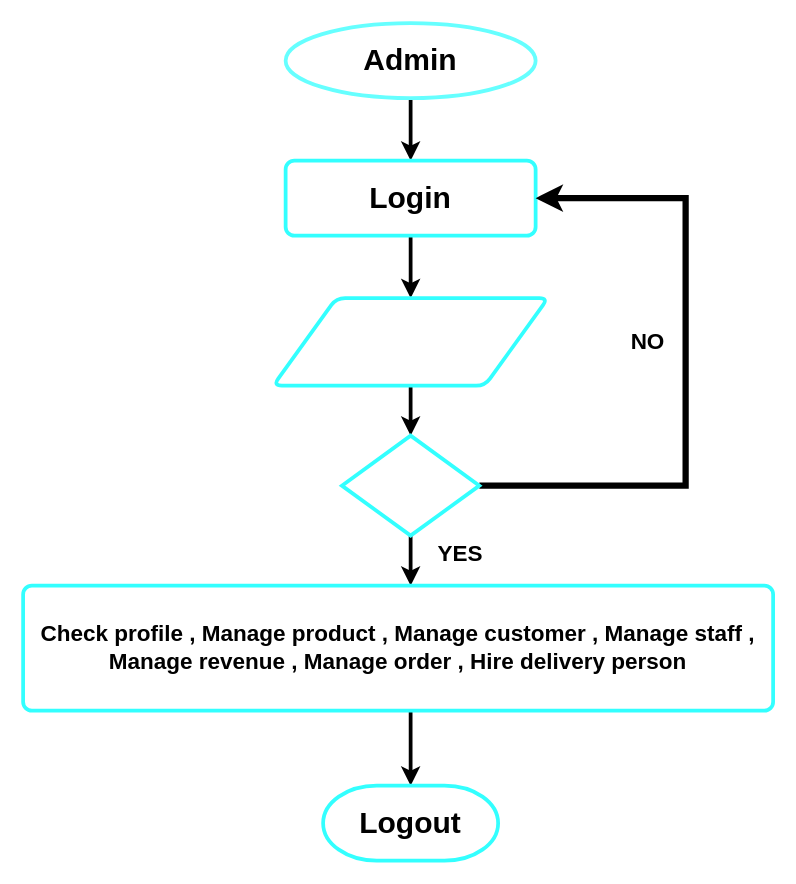
Image size: 796x884. Some labels were removed from this diagram. The centre of each missing label's shape, as x and y in pixels:
"Email and Password" goes at point (410, 341).
"valid" goes at point (410, 485).
